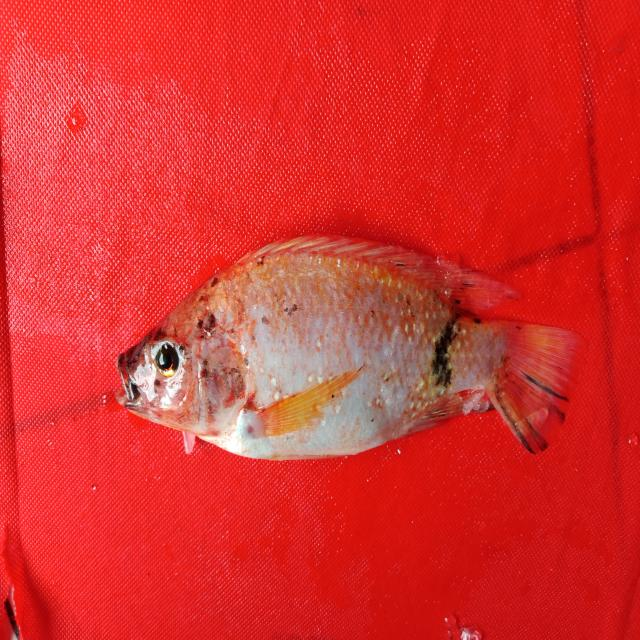ikan: (104, 205, 598, 476)
